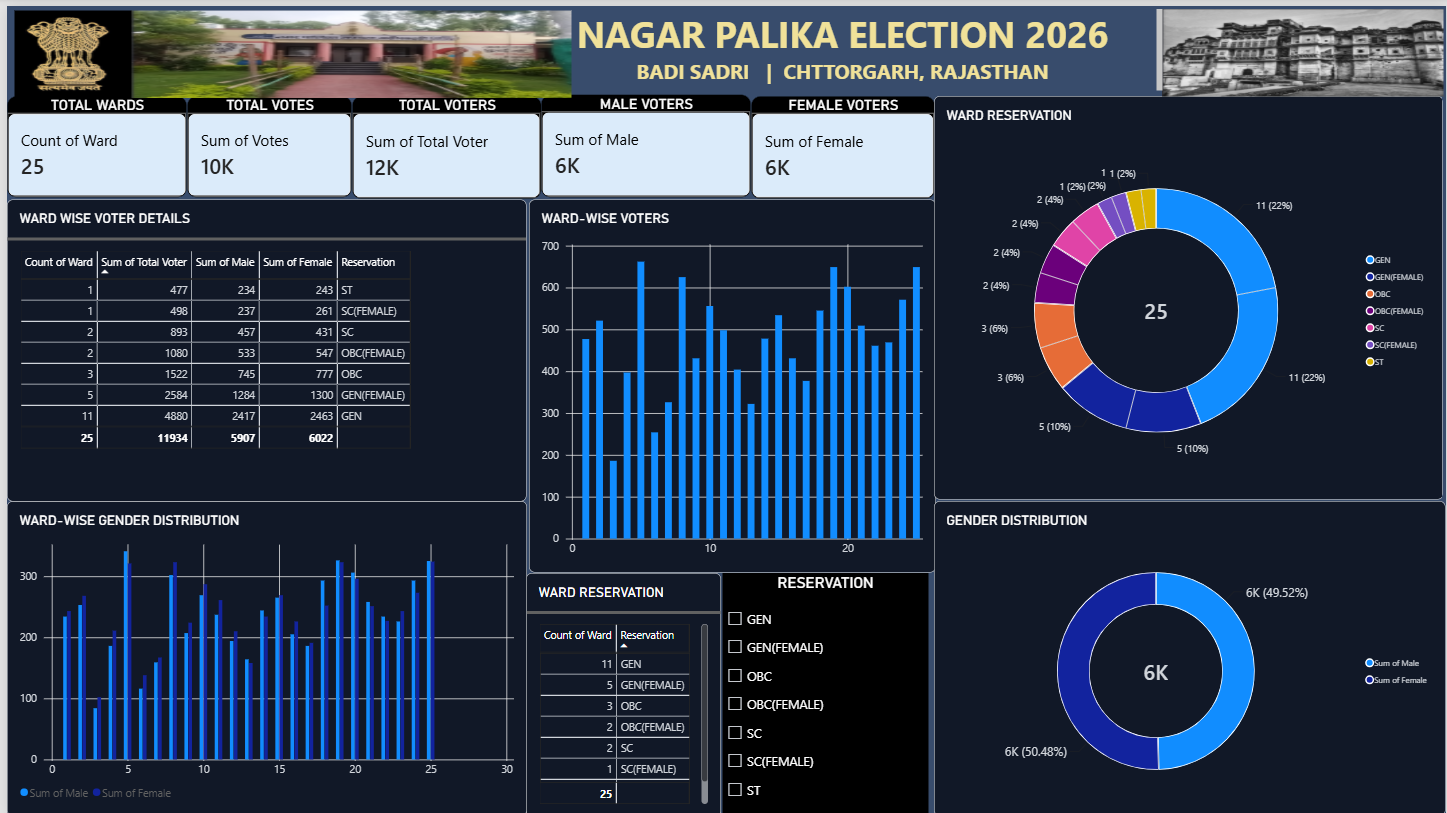

This screenshot's page, from the dashboard's own definition file:
{"tool":"powerbi","page":{"name":"Page 1","canvas":[1920,1080],"ordinal":0},"visuals":[{"type":"cardVisual","title":"TOTAL VOTERS","fields":{"Data":["Sum(Sheet1.Total Voter)"]},"box":[460,120,252.5,137.5],"z":0},{"type":"cardVisual","title":"TOTAL WARDS","fields":{"Data":["Count(Sheet1.Ward)"]},"box":[0,120,240,135],"z":1000},{"type":"cardVisual","title":"MALE VOTERS","fields":{"Data":["Sum(Sheet1.Male)"]},"box":[712.5,117.5,280,137.5],"z":2000},{"type":"cardVisual","title":"FEMALE VOTERS","fields":{"Data":["Sum(Sheet1.Female)"]},"box":[992.5,120,245,137.5],"z":3000},{"type":"clusteredColumnChart","title":"WARD-WISE VOTERS","fields":{"Category":["Sheet1.Ward"],"Y":["Sum(Sheet1.Total Voter)"]},"box":[695,257.5,542.5,497.5],"z":4000},{"type":"tableEx","title":"WARD RESERVATION","fields":{"Values":["Count(Sheet1.Ward)","Sheet1.Reservation"]},"box":[692.5,755,260,325],"z":5000},{"type":"donutChart","title":"WARD RESERVATION","fields":{"Category":["Sheet1.Reservation"],"Y":["Count(Sheet1.Ward)","CountNonNull(Sheet1.Reservation)"]},"box":[1235.6,120.4,679.1,538.3],"z":6000},{"type":"donutChart","title":"GENDER DISTRIBUTION","fields":{"Y":["Sum(Sheet1.Male)","Sum(Sheet1.Female)"]},"box":[1236.7,660,683.3,420],"z":7000},{"type":"slicer","title":"RESERVATION","fields":{"Values":["Sheet1.Reservation"]},"box":[953.3,755,274.8,324.8],"z":8000},{"type":"lineClusteredColumnComboChart","title":"WARD-WISE GENDER DISTRIBUTION","fields":{"Category":["Sheet1.Ward"],"Y":["Sum(Sheet1.Male)","Sum(Sheet1.Female)"]},"box":[0,660,693.3,420],"z":9000},{"type":"tableEx","title":"WARD WISE VOTER DETAILS","fields":{"Values":["Count(Sheet1.Ward)","Sum(Sheet1.Total Voter)","Sum(Sheet1.Male)","Sum(Sheet1.Female)","Sheet1.Reservation"]},"box":[0,257.5,692.5,402.5],"z":10000},{"type":"cardVisual","title":"TOTAL VOTES","fields":{"Data":["Sum(Sheet1 (3).Votes)"]},"box":[240,120,220,135],"z":11000},{"type":"image","box":[1540,3.3,376.7,116.7],"z":12001},{"type":"textbox","box":[693.3,3.3,846.7,113.3],"z":12002},{"type":"image","box":[10,6.7,156.7,116.7],"z":12003},{"type":"image","box":[166.7,6.7,586.7,116.7],"z":12004}]}

Visuals, with their boxes in screenshot pixels (x1, y1, x2, y2), scaled from the page's 1920x1080 canvas onto the 1447x813 screenshot:
"TOTAL VOTERS" cardVisual: select_region(347, 90, 537, 194)
"TOTAL WARDS" cardVisual: select_region(0, 90, 181, 192)
"MALE VOTERS" cardVisual: select_region(537, 88, 748, 192)
"FEMALE VOTERS" cardVisual: select_region(748, 90, 933, 194)
"WARD-WISE VOTERS" clusteredColumnChart: select_region(524, 194, 933, 568)
"WARD RESERVATION" tableEx: select_region(522, 568, 718, 812)
"WARD RESERVATION" donutChart: select_region(931, 91, 1443, 496)
"GENDER DISTRIBUTION" donutChart: select_region(932, 497, 1446, 812)
"RESERVATION" slicer: select_region(718, 568, 926, 812)
"WARD-WISE GENDER DISTRIBUTION" lineClusteredColumnComboChart: select_region(0, 497, 523, 812)
"WARD WISE VOTER DETAILS" tableEx: select_region(0, 194, 522, 497)
"TOTAL VOTES" cardVisual: select_region(181, 90, 347, 192)
image: select_region(1161, 2, 1445, 90)
textbox: select_region(523, 2, 1161, 88)
image: select_region(8, 5, 126, 93)
image: select_region(126, 5, 568, 93)
